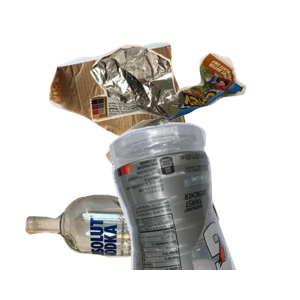cardboard: (46, 40, 226, 179)
glass: (22, 192, 234, 300)
plastic: (106, 120, 300, 300)
trash: (88, 42, 300, 219)
